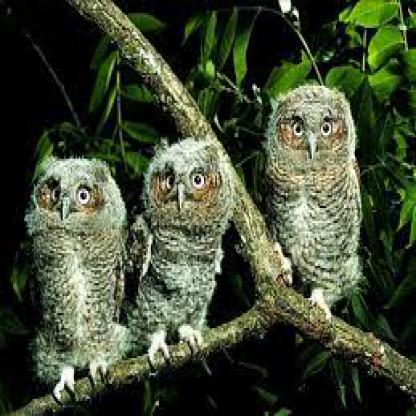owl: (19, 120, 209, 414), (266, 28, 414, 382), (130, 96, 289, 414)
